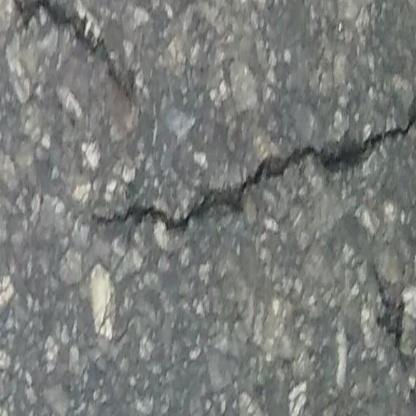Cracks: (97, 92, 416, 241), (0, 0, 140, 101), (365, 257, 416, 416)
